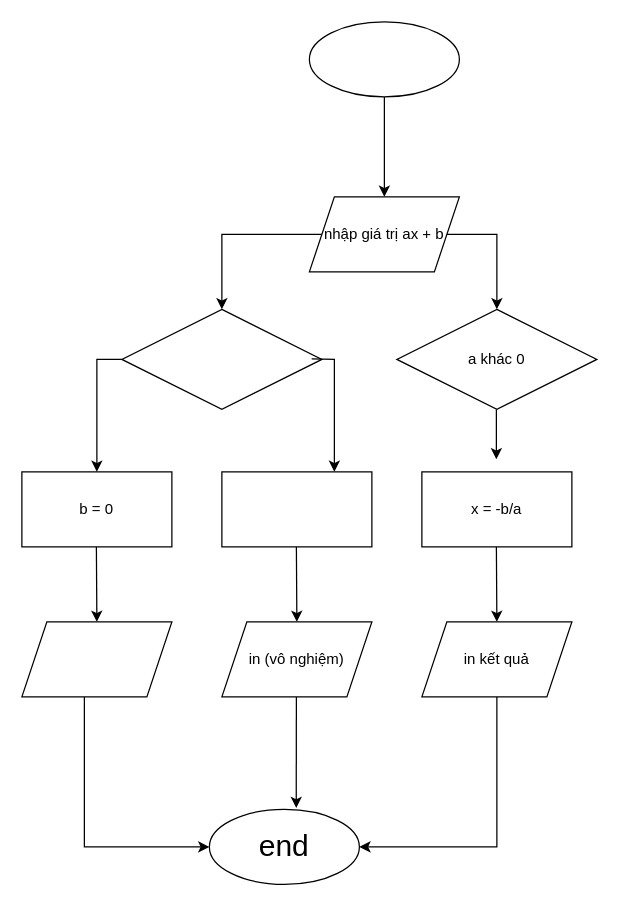
Some shapes in this 619 by 906 pixel diagram are drawn without their labels. The centre of each missing label's shape, as x and y in pixels:
"a = 0" belongs at pixel 221 358.
"b khác 0" belongs at pixel 296 509.
"in (vô số nghiệm)" belongs at pixel 96 659.
"Start" belongs at pixel 383 59.
